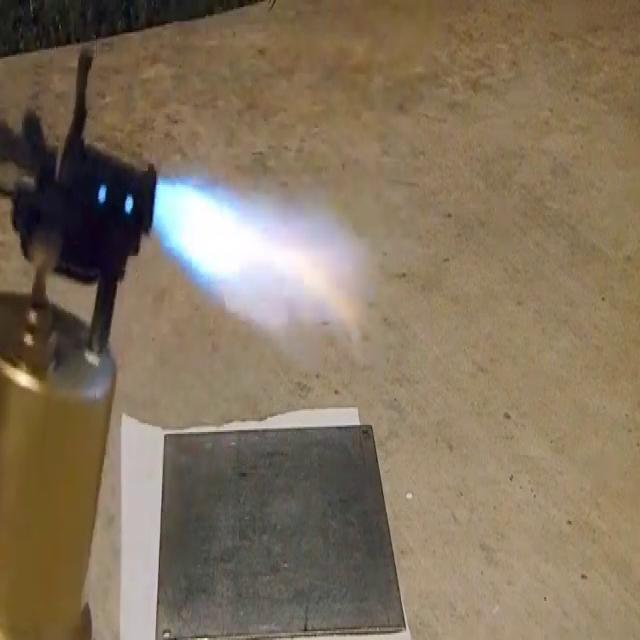fire: (152, 164, 382, 366)
